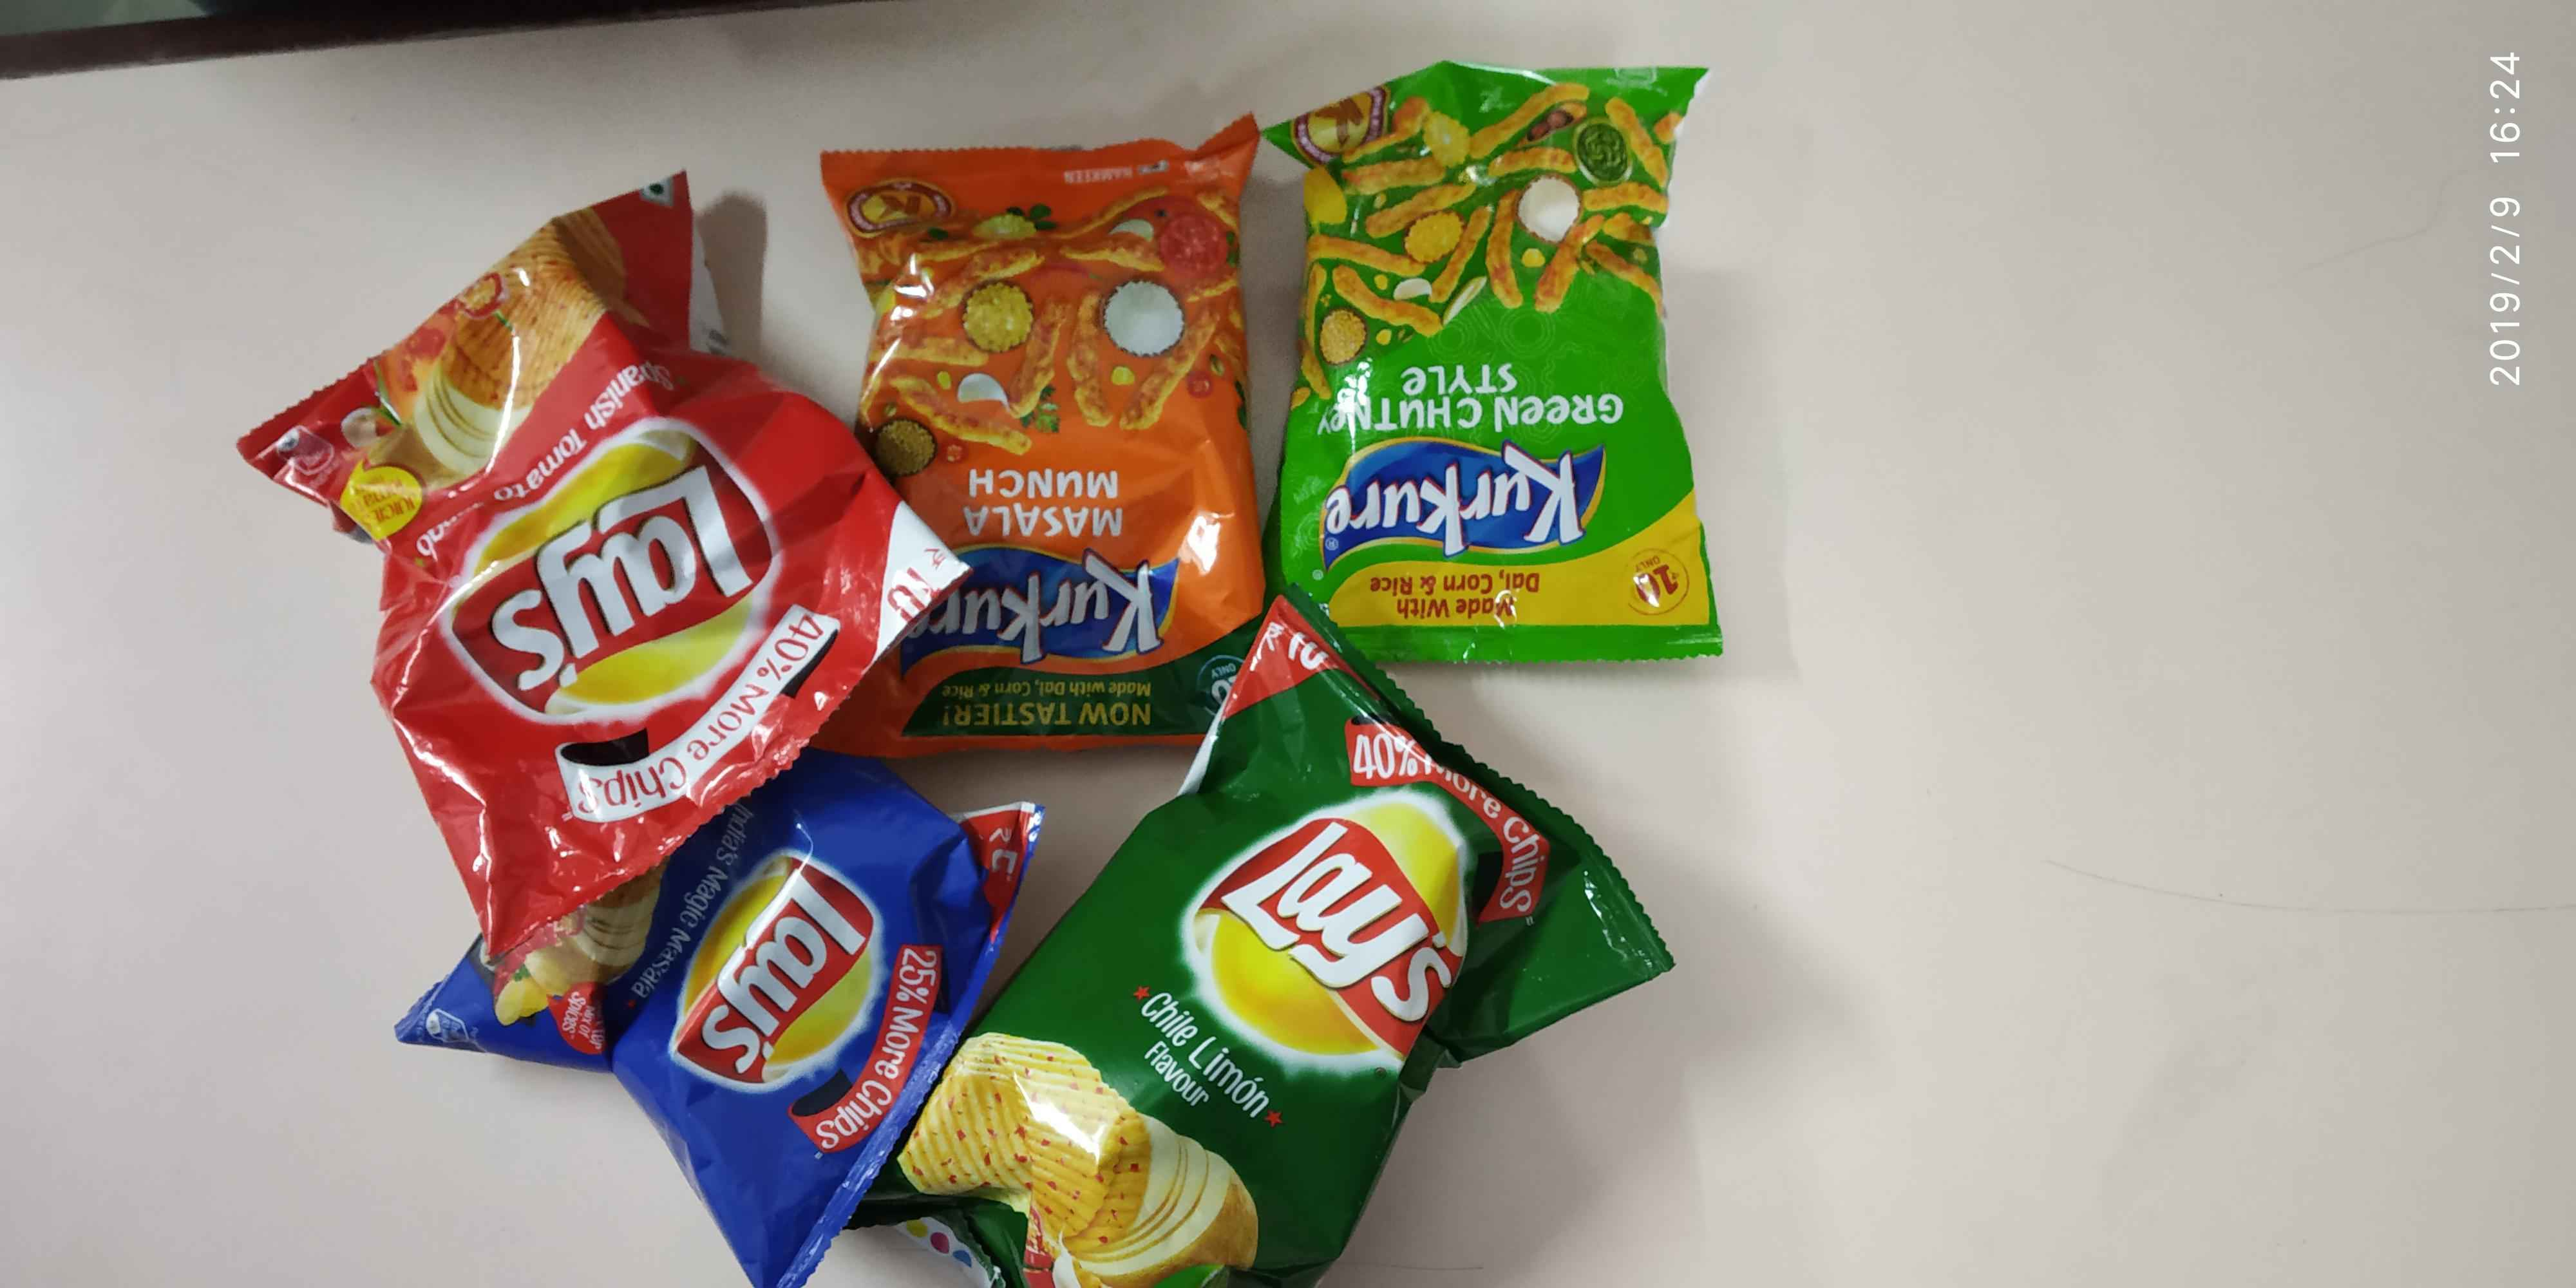Lays: (1161, 782, 1487, 1102), (435, 432, 787, 692), (641, 844, 899, 1091)
kurkure: (904, 539, 1198, 659), (1303, 444, 1613, 552)
